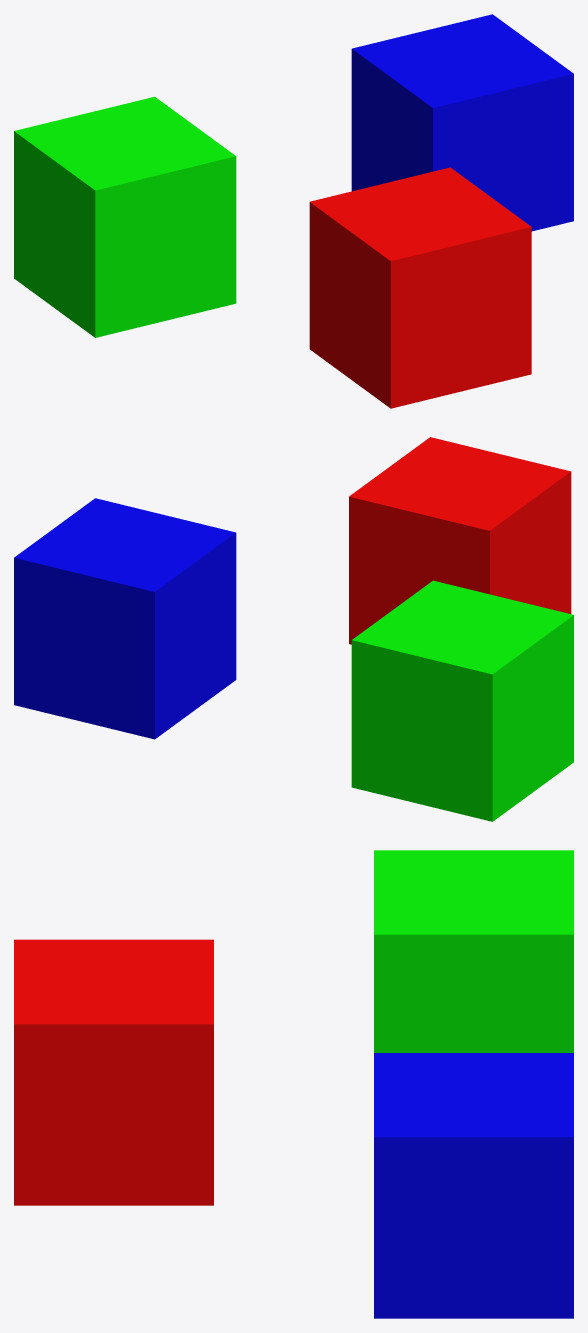
File: color_test_scene.glb
3 renders of one model, top to bottom at view 1: azimuth 30°, elevation 25°; view 2: azimuth 150°, elevation 25°; view 3: azimuth 270°, elevation 25°, orthographic. The views are drawn at different scales.
Visible parts, largest first — view 1: MeshInstance3D2, MeshInstance3D, MeshInstance3D3; view 2: MeshInstance3D2, MeshInstance3D3, MeshInstance3D; view 3: MeshInstance3D, MeshInstance3D3, MeshInstance3D2.
Part boxes in pixels (x1,y1,x2,y2): MeshInstance3D2: (14, 96, 236, 337); MeshInstance3D: (309, 167, 531, 408); MeshInstance3D3: (351, 14, 573, 231); MeshInstance3D2: (351, 580, 573, 821); MeshInstance3D3: (14, 498, 236, 739); MeshInstance3D: (349, 437, 571, 644); MeshInstance3D: (14, 939, 213, 1205); MeshInstance3D3: (374, 1053, 573, 1318); MeshInstance3D2: (374, 850, 573, 1052).
Bounding box in the file's own units: 6.79 × 2 × 5.6.
